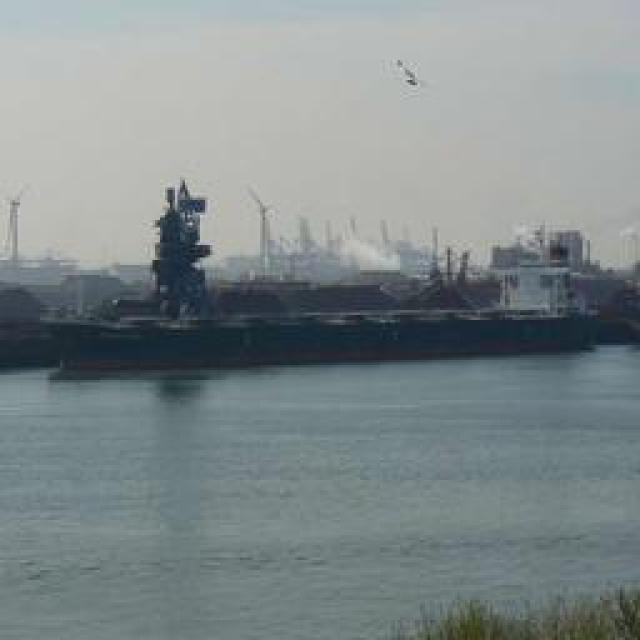Ship: (56, 282, 606, 362)
